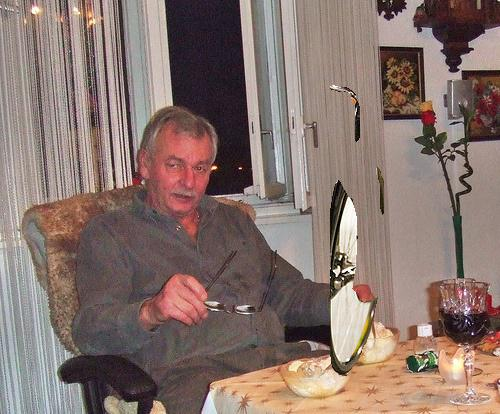tampered: (331, 86, 384, 376)
